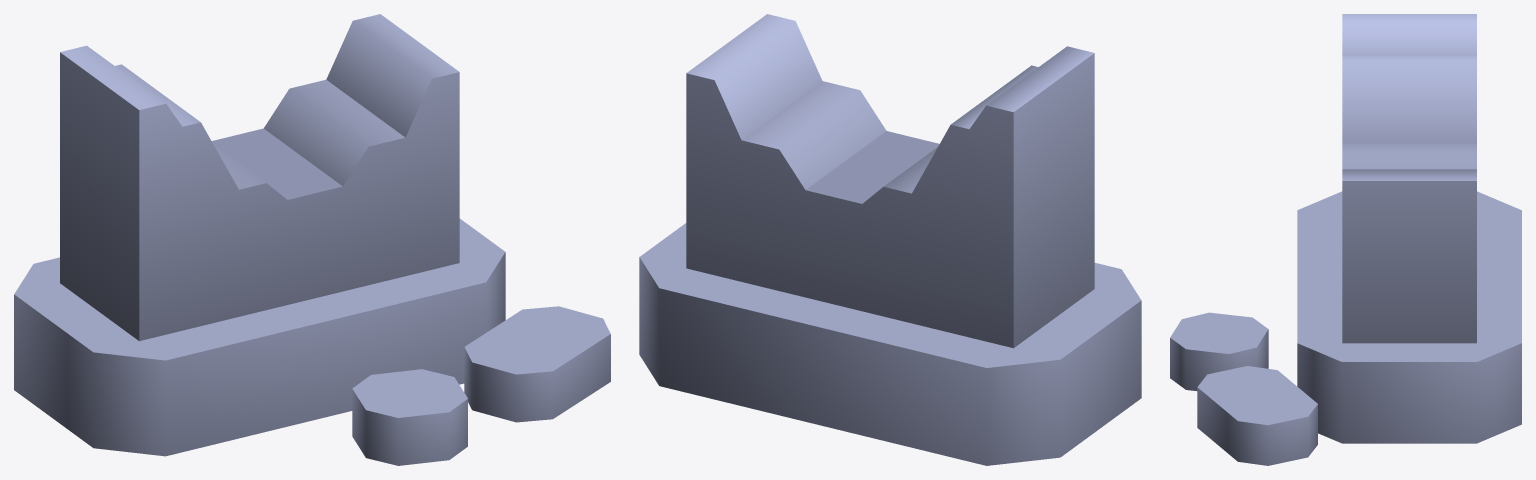
File: gravestone-broken_lev2.glb
3 views of the same model, side by side, from view 1: azimuth 30°, elevation 25°; view 2: azimuth 150°, elevation 25°; view 3: azimuth 270°, elevation 25° (orthographic). The views are drawn at different scales.
Visible parts, largest first — view 1: gravestone-broken_lev2; view 2: gravestone-broken_lev2; view 3: gravestone-broken_lev2.
Boxes of the visible parts, x1=… form: gravestone-broken_lev2: x1=14, y1=14, x2=610, y2=465; gravestone-broken_lev2: x1=639, y1=14, x2=1141, y2=465; gravestone-broken_lev2: x1=1170, y1=14, x2=1521, y2=465.
Size of the model in its own units: 0.509 by 0.3411 by 0.3915.
1 material, 1 textured.
